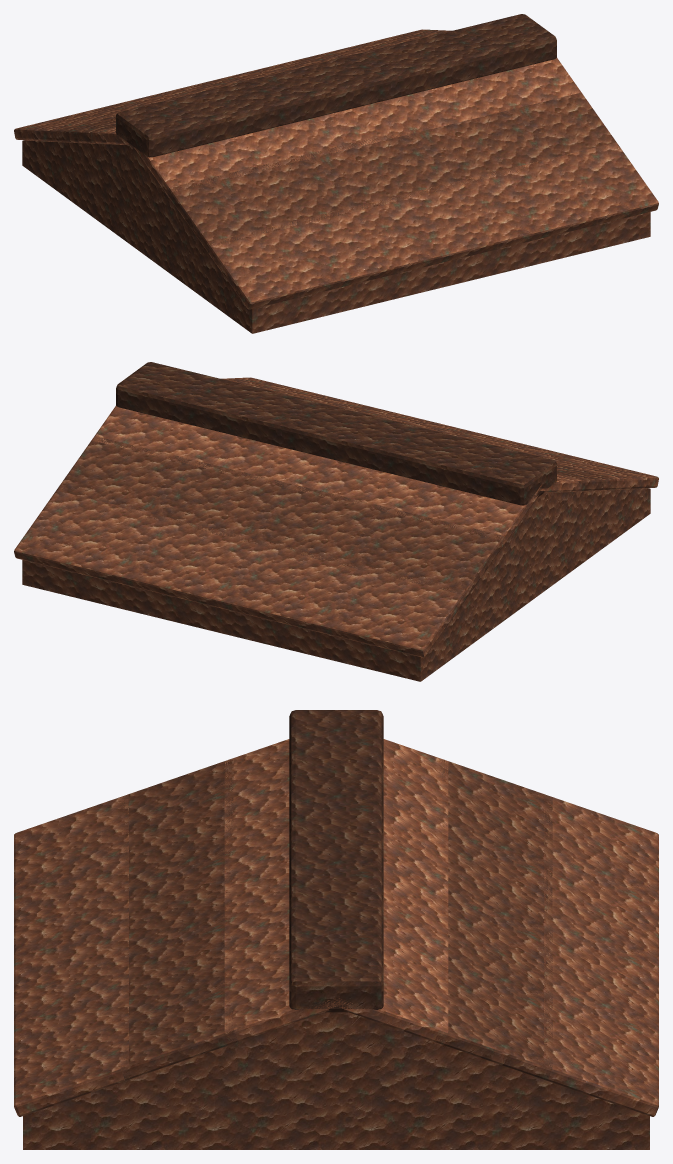
The model's file is roof_26_ridge__copper_ingot.glb.
3 renders of one model, top to bottom at view 1: azimuth 30°, elevation 25°; view 2: azimuth 150°, elevation 25°; view 3: azimuth 270°, elevation 25°, orthographic. The views are drawn at different scales.
Visible parts, largest first — view 1: model; view 2: model; view 3: model.
Boxes of the visible parts, box(x1,y1,x2,y2) form: model: box(14, 14, 658, 333); model: box(14, 362, 658, 681); model: box(14, 710, 658, 1149).
Bounding box in the file's own units: 2.06 × 0.61 × 2.06.
Materials: 4 (4 with a texture image).
